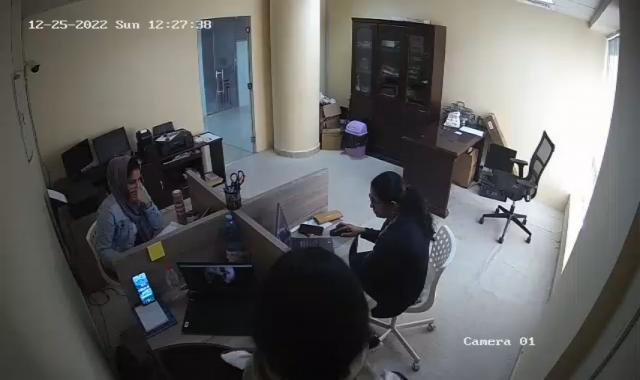no_hairnet: (250, 252, 372, 364), (366, 172, 421, 220), (111, 158, 144, 190)
